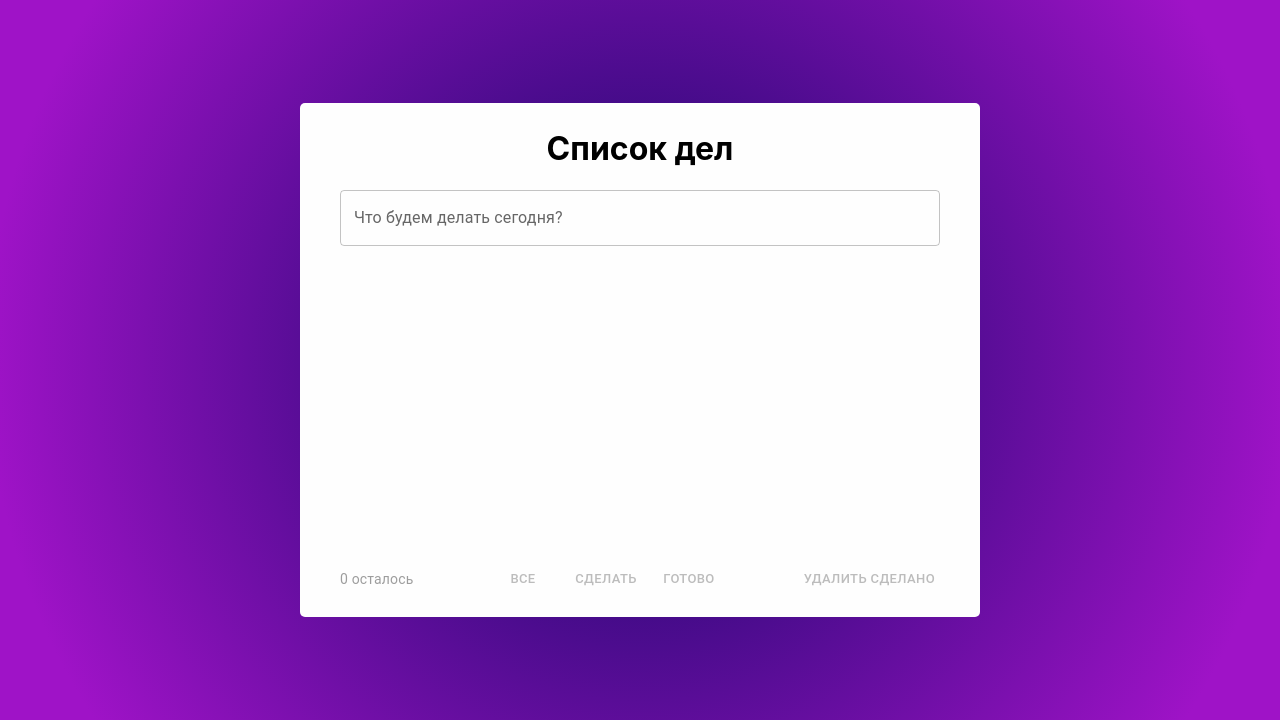
Scenario: App › should remove completed tasks
Type "Тестировать" into the field labelled "Что будем делать сегодня?" at point(640, 218), box [340, 190, 940, 246]
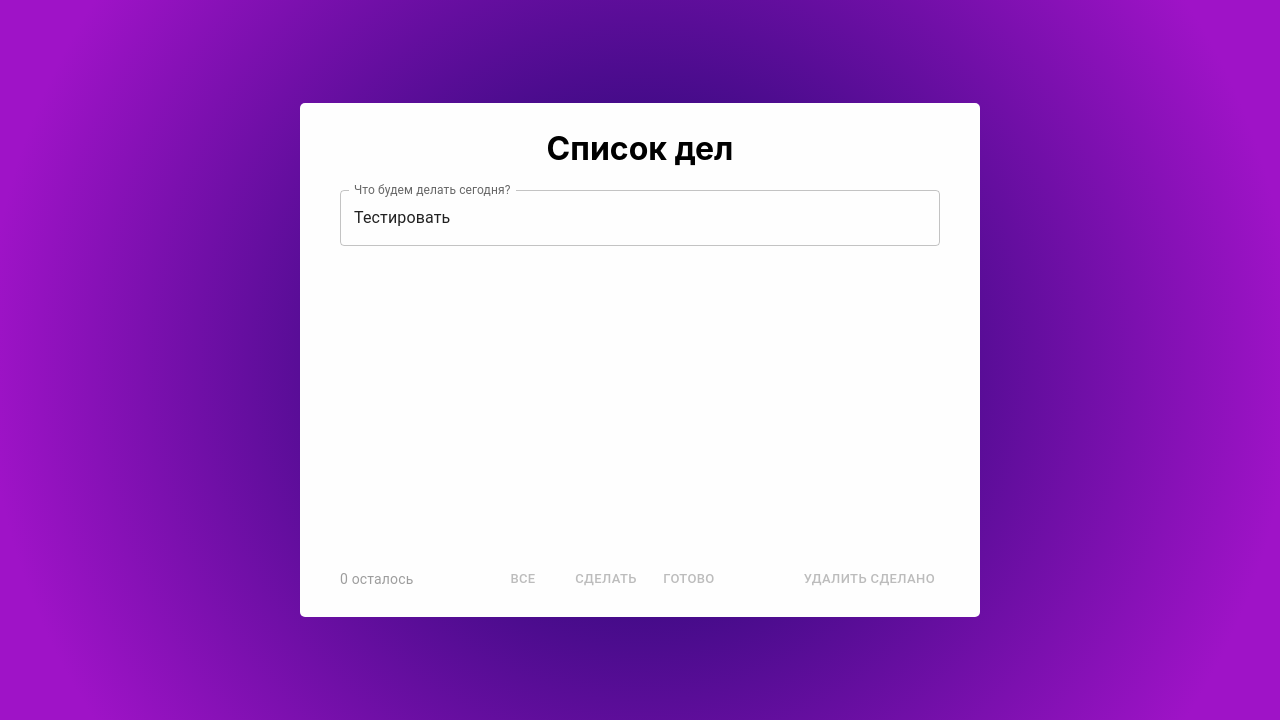
Submit the form with test id "todo-form", box [340, 190, 940, 246]
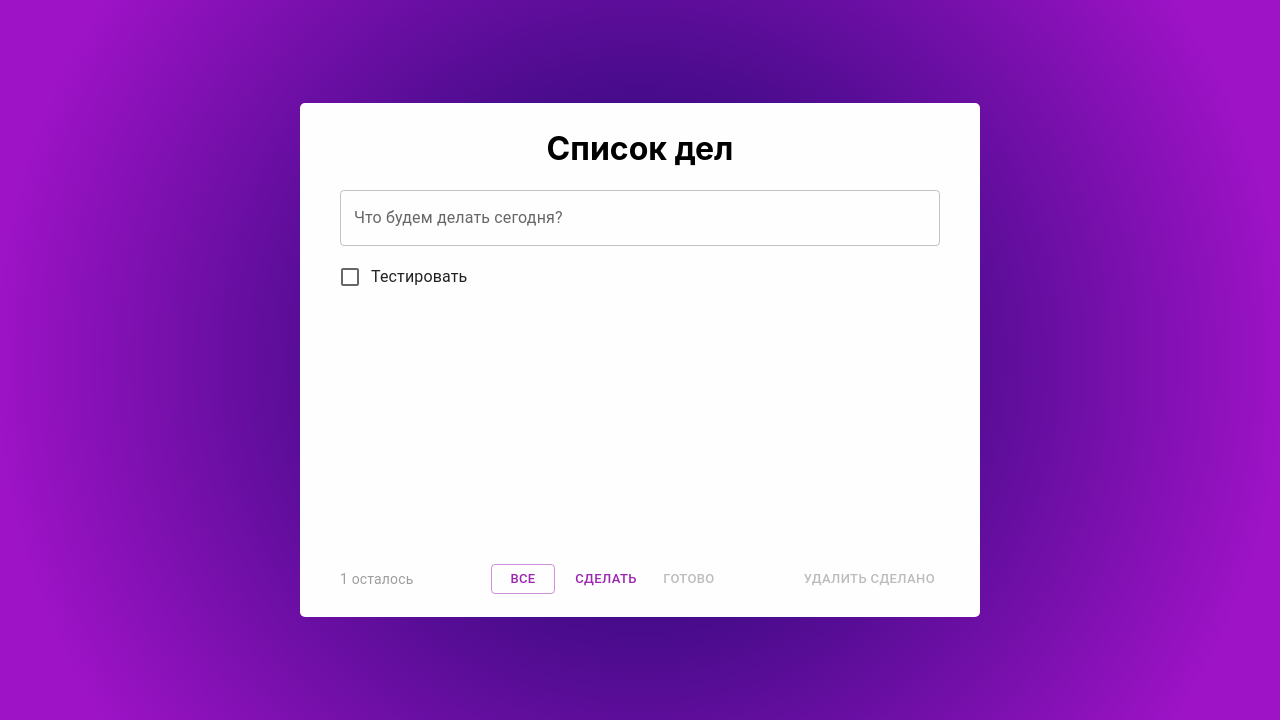
Expected: the field labelled "Что будем делать сегодня?" is empty, [340, 190, 940, 246]
Expected: the text "Тестировать" is shown, [371, 265, 467, 289]
Click the checkbox labelled "Тестировать" at point(403, 277), box [338, 265, 467, 289]
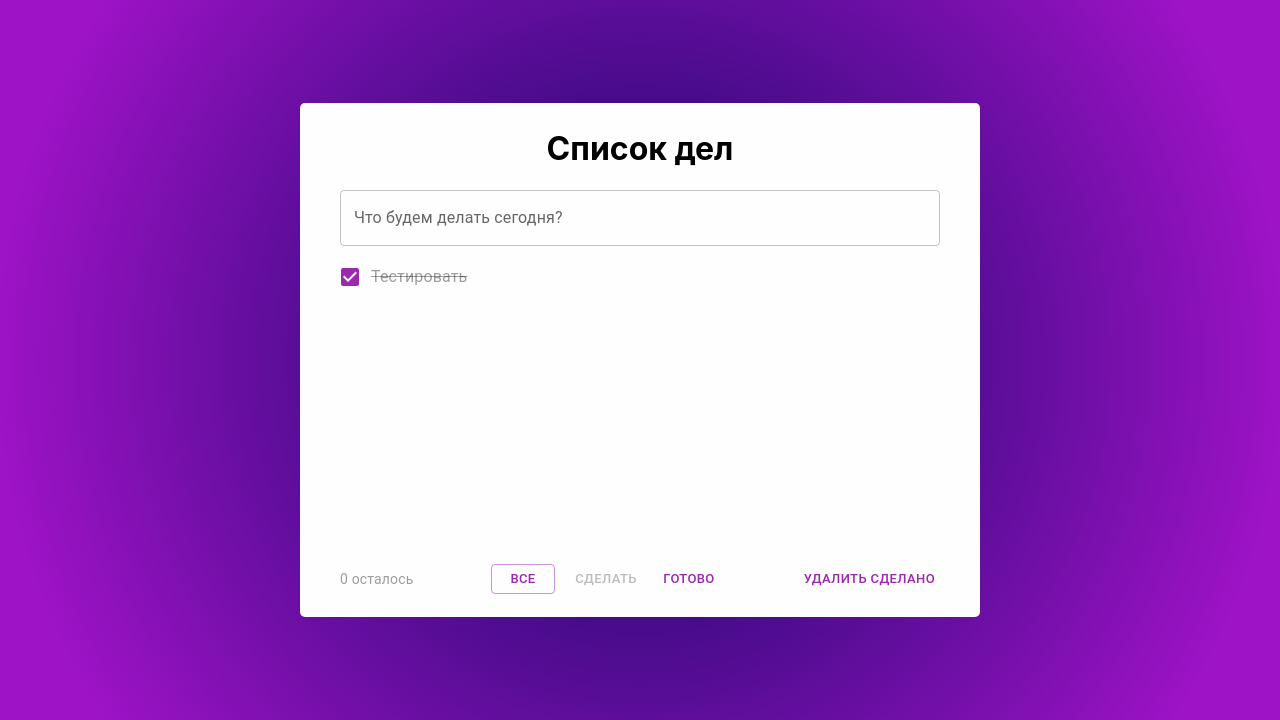
Expected: the text "0 осталось" is shown, [340, 569, 413, 589]
Click the button with test id "remove-completed" at point(869, 579), box [799, 564, 940, 594]
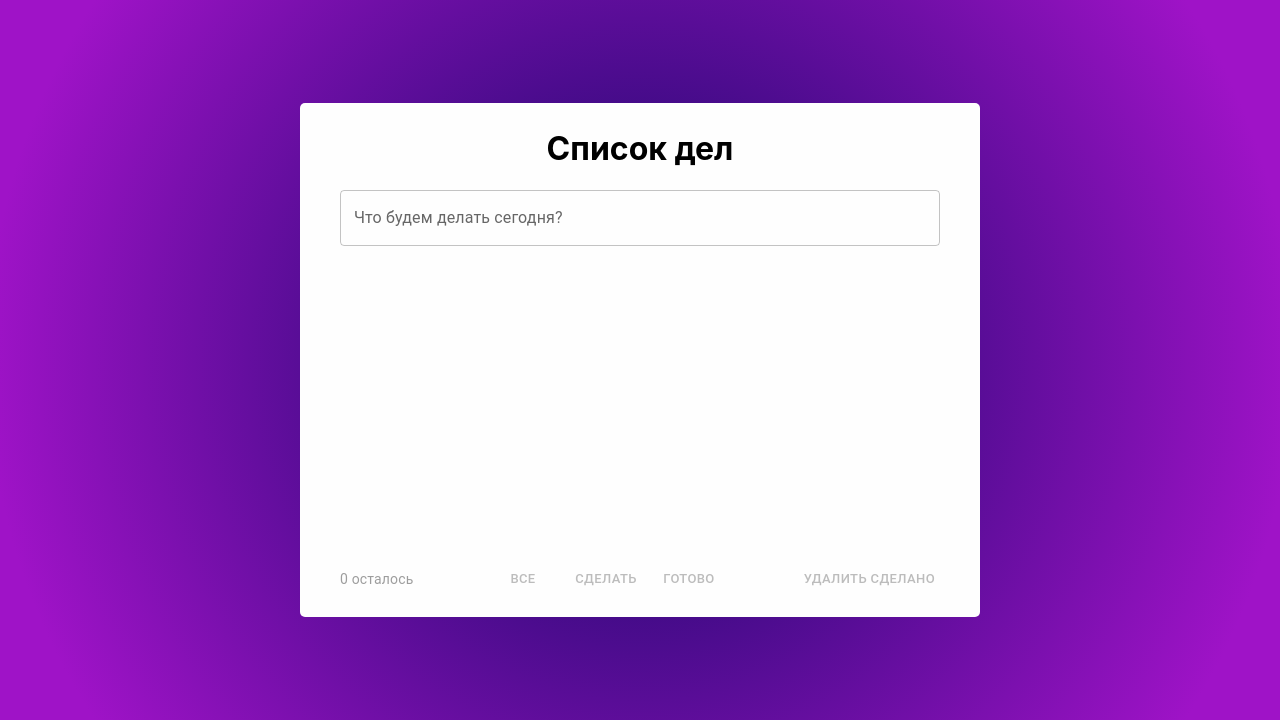
Expected: the checkbox with test id "todo-item" is gone
